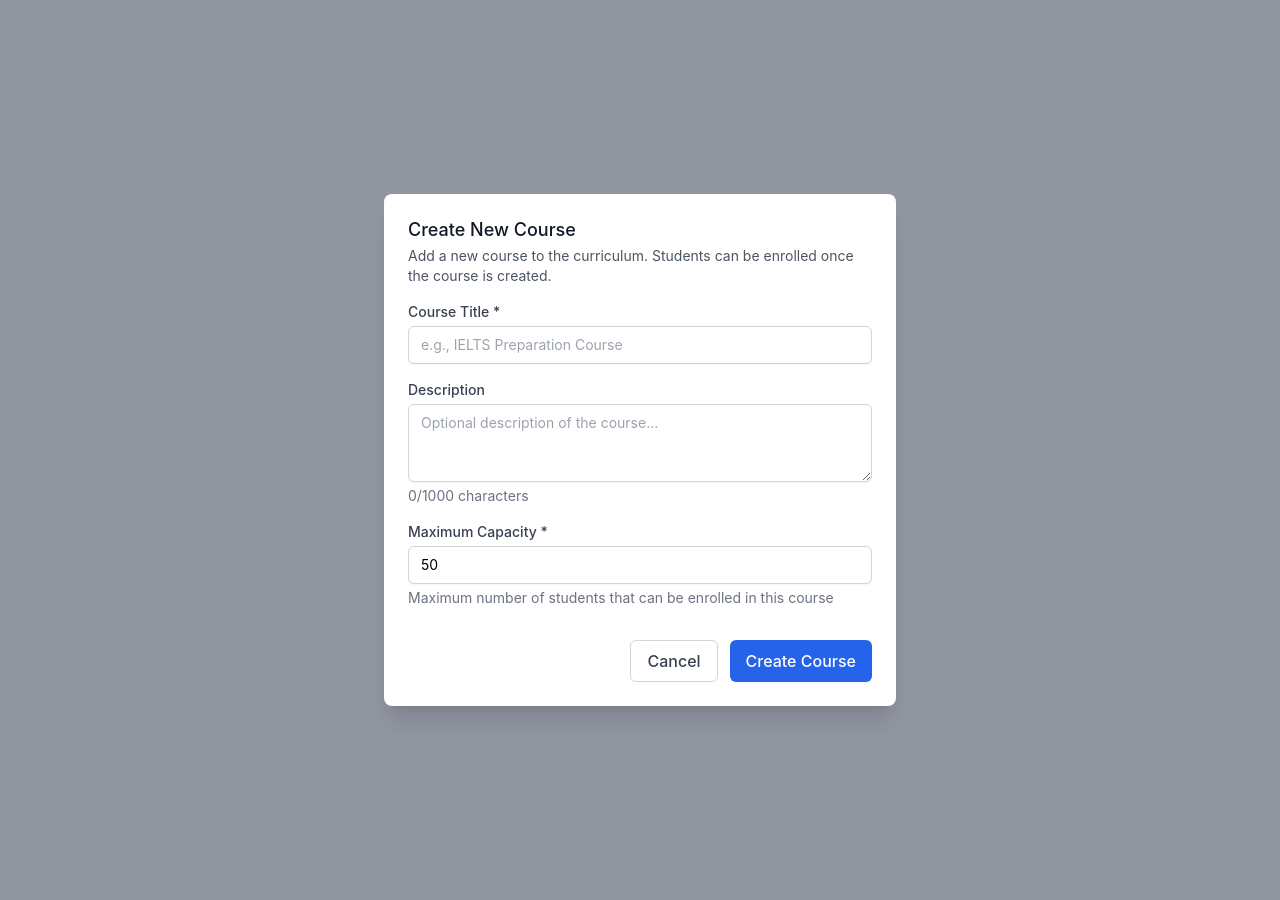
Test: CourseForm › handles network errors
Type "Test Course" into the field labelled "Course Title *" at (640, 345), box left=408, top=326, right=872, bottom=364
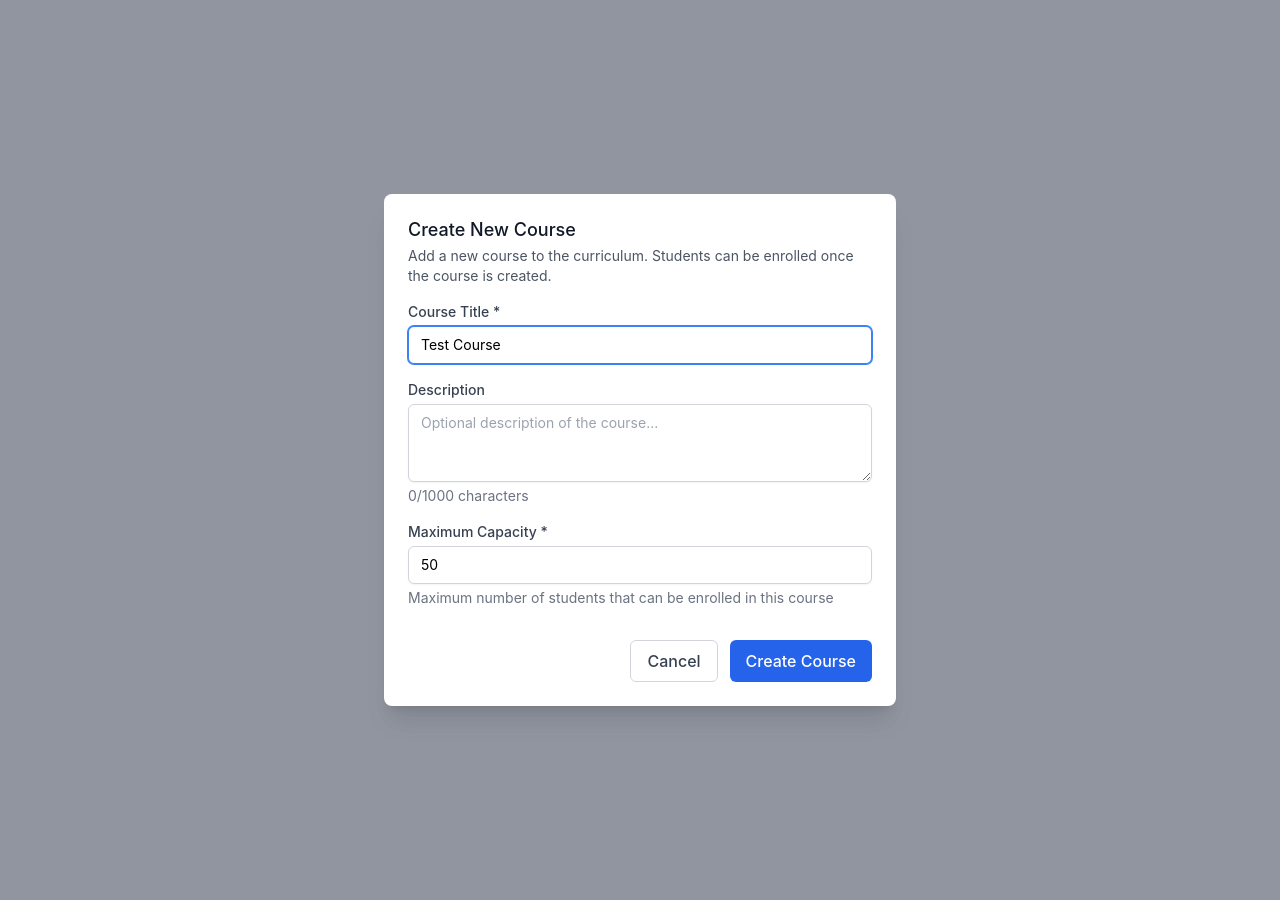
Click the button "Create Course" at (801, 661), box left=730, top=640, right=872, bottom=682
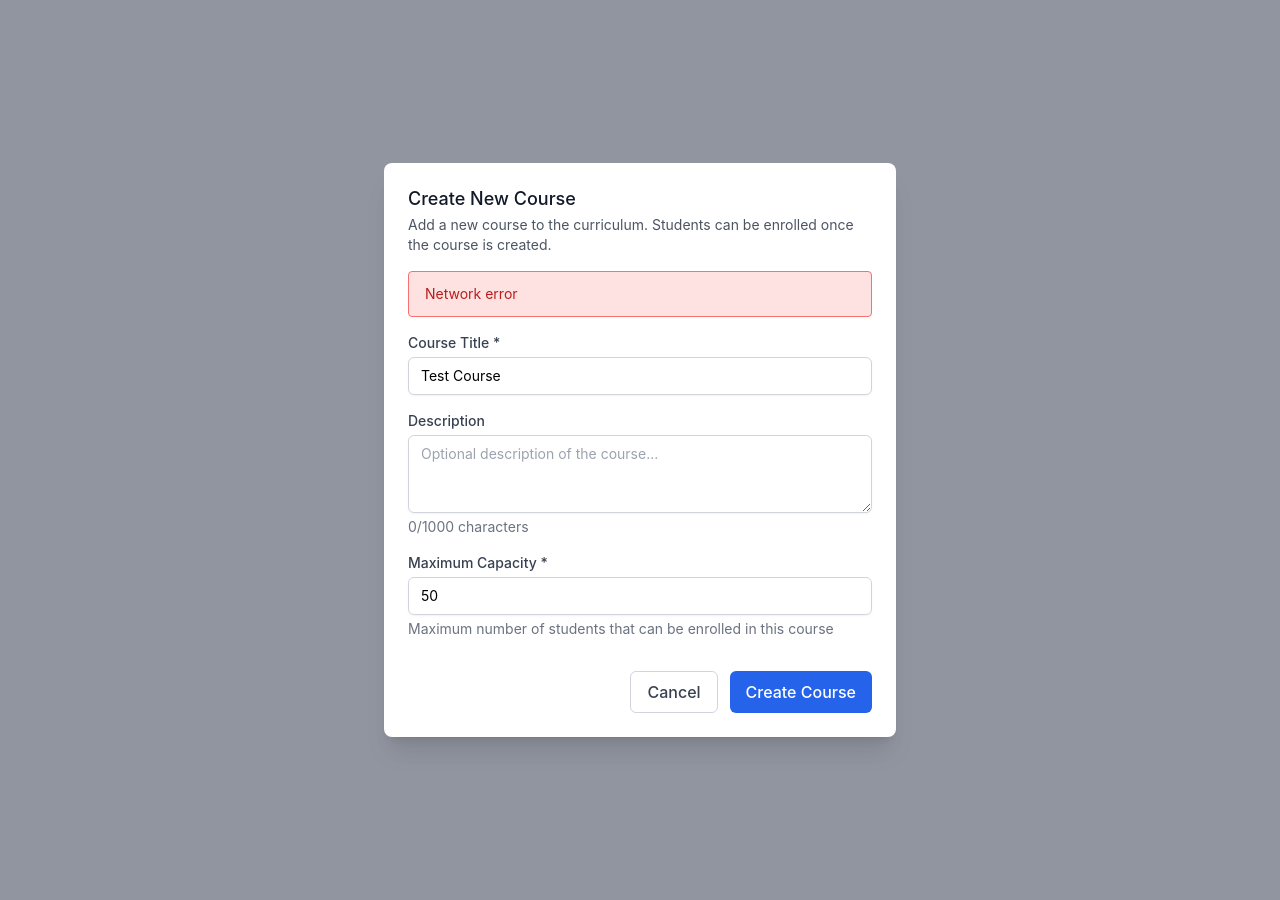
Expected: the text "Network error" is shown, left=425, top=285, right=518, bottom=302
